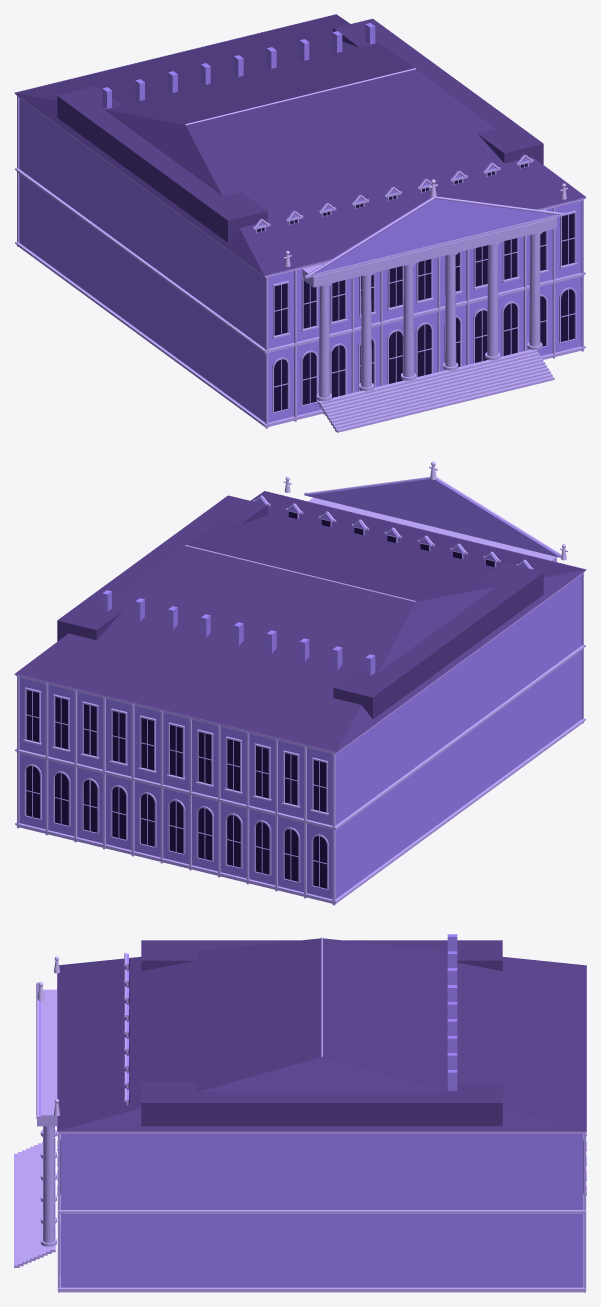
File: opera_violet_light.glb
3 views of the same model, one above another, from view 1: azimuth 30°, elevation 25°; view 2: azimuth 150°, elevation 25°; view 3: azimuth 270°, elevation 25° (orthographic). The views are drawn at different scales.
Parts seen in each view (by area): view 1: Violet slate, Violet stone, Lavender carved stone, Recessed glazing; view 2: Violet slate, Violet stone, Lavender carved stone, Recessed glazing; view 3: Violet slate, Violet stone, Lavender carved stone.
Boxes of the visible parts, left/top/right/bottom form: Violet slate: left=14, top=14, right=586, bottom=275; Violet stone: left=19, top=23, right=581, bottom=426; Lavender carved stone: left=15, top=15, right=585, bottom=432; Recessed glazing: left=257, top=163, right=574, bottom=411; Violet slate: left=14, top=491, right=586, bottom=752; Violet stone: left=19, top=478, right=581, bottom=903; Lavender carved stone: left=15, top=477, right=585, bottom=905; Recessed glazing: left=26, top=511, right=494, bottom=888; Violet slate: left=57, top=938, right=586, bottom=1131; Violet stone: left=39, top=934, right=582, bottom=1292; Lavender carved stone: left=14, top=937, right=586, bottom=1292.
Size of the model in its own units: 49.62 by 32 by 72.25.
